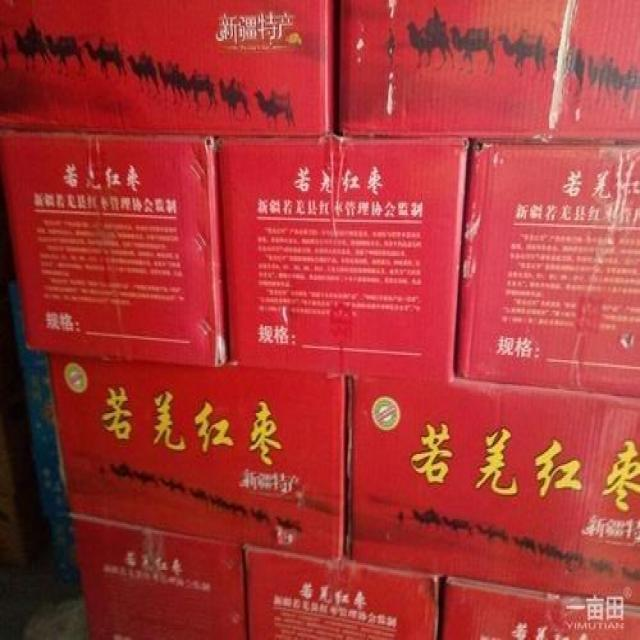box: (39, 330, 349, 570), (346, 366, 640, 616), (213, 128, 477, 390), (0, 120, 233, 378), (452, 127, 640, 409), (0, 0, 338, 141), (324, 0, 639, 135), (62, 500, 250, 640), (235, 529, 446, 640)
